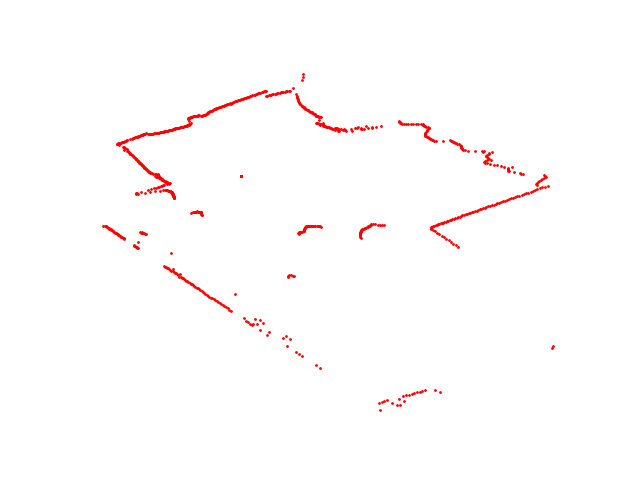person: (296, 222, 388, 242)
